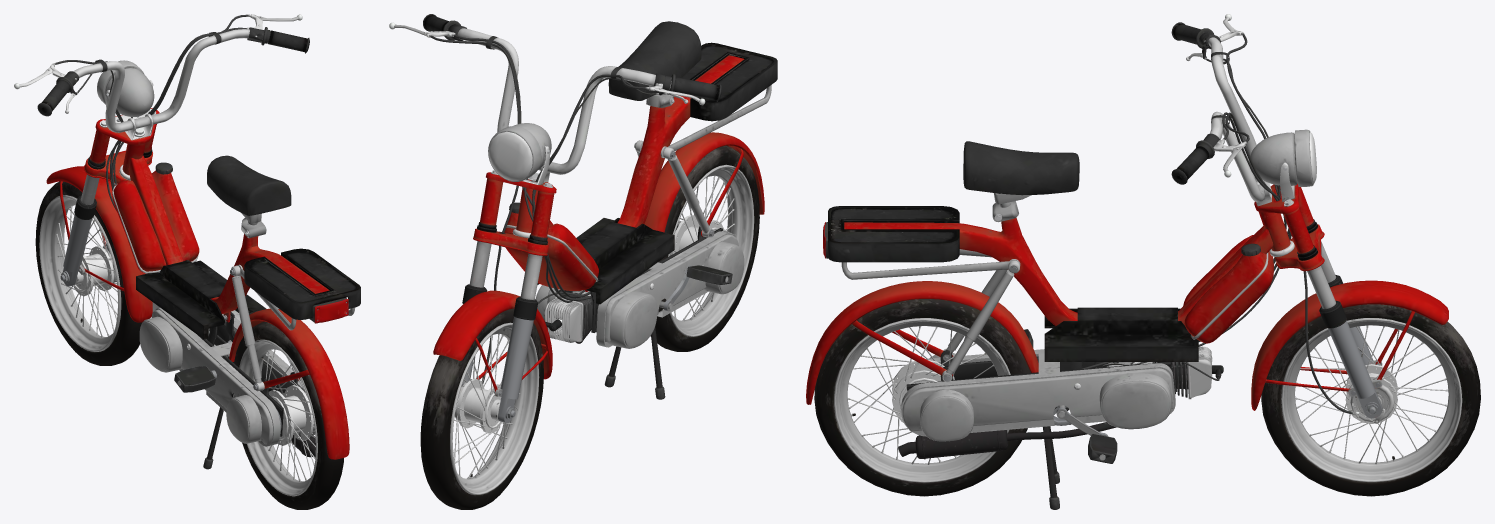
The model's file is moped.glb.
3 renders of one model, left to right at view 1: azimuth 30°, elevation 25°; view 2: azimuth 150°, elevation 25°; view 3: azimuth 270°, elevation 25°, orthographic. The views are drawn at different scales.
Parts seen in each view (by area): view 1: defaultMaterial (×3); view 2: defaultMaterial (×3); view 3: defaultMaterial (×3).
Part boxes in pixels (x1=…): defaultMaterial (×3): x1=14, y1=14, x2=360, y2=509; defaultMaterial (×3): x1=389, y1=14, x2=777, y2=509; defaultMaterial (×3): x1=806, y1=14, x2=1480, y2=509.
Size of the model in its own units: 1048 by 1261 by 1874.
Materials: 3 (3 with a texture image).
